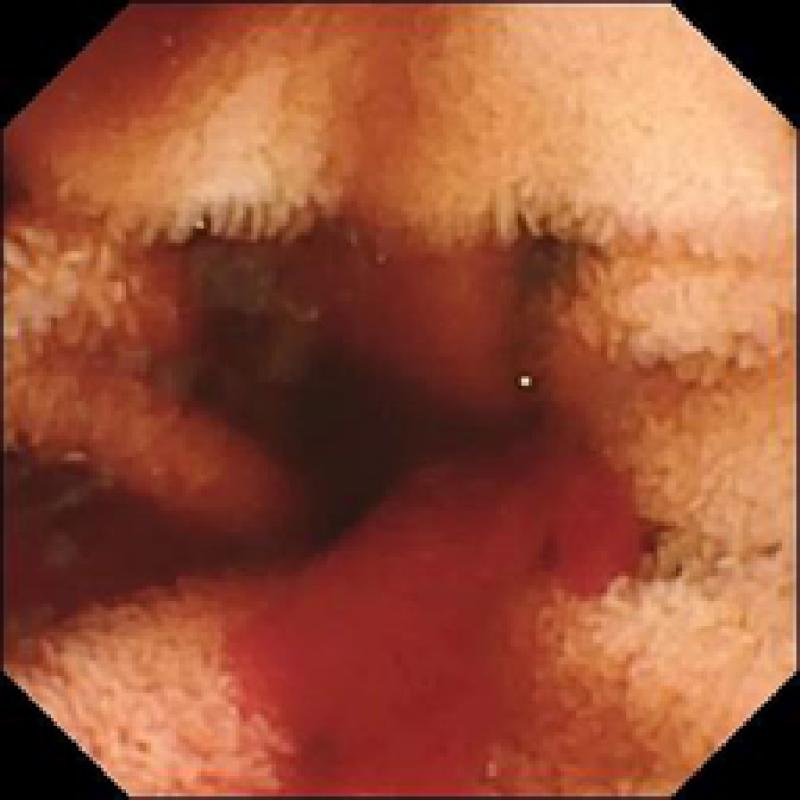bleeding: (224, 439, 640, 800), (329, 261, 539, 421)
